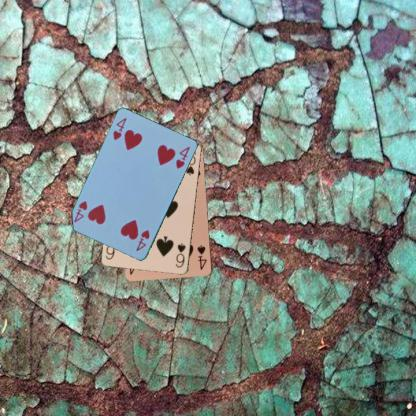4h: (133, 227, 151, 253), (110, 116, 128, 142)
4s: (195, 243, 208, 271)
6s: (173, 241, 187, 269)
